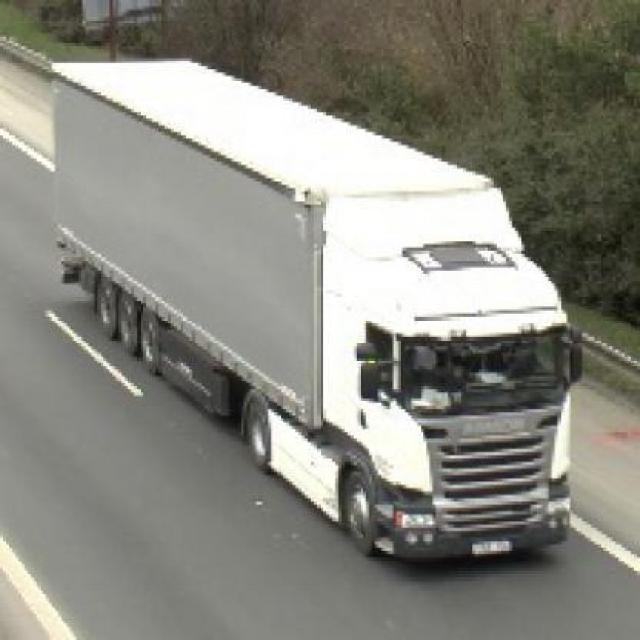vehicle: (48, 48, 586, 574)
